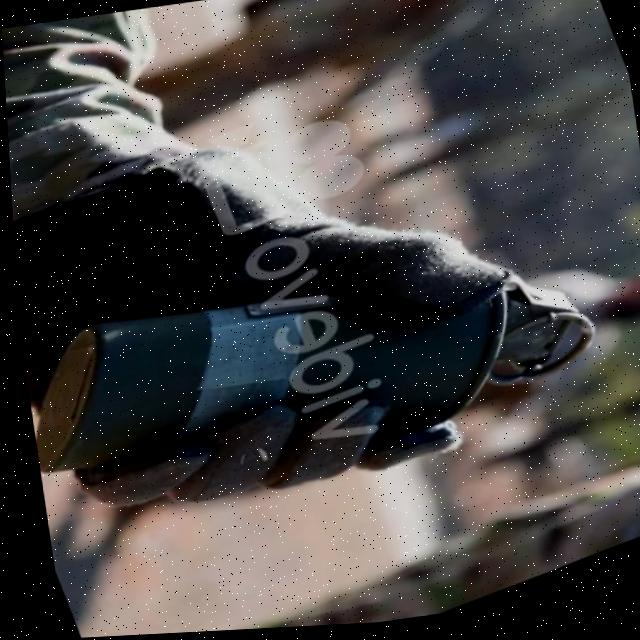grenade: (8, 155, 630, 580)
